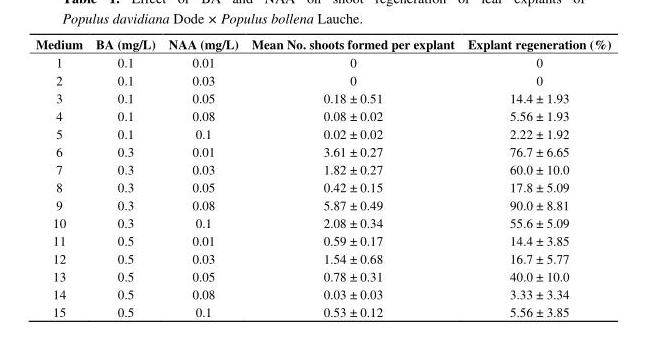table: (35, 34, 610, 319)
table column: (244, 34, 460, 319), (460, 34, 610, 319), (161, 34, 244, 319), (88, 34, 161, 319), (35, 34, 88, 319)
table column header: (35, 34, 610, 52)
table row: (35, 34, 610, 52), (35, 52, 610, 70), (35, 70, 610, 88), (35, 88, 610, 106), (35, 123, 610, 141), (35, 141, 610, 159), (35, 159, 610, 177), (35, 177, 610, 195), (35, 195, 610, 213), (35, 230, 610, 248), (35, 248, 610, 266), (35, 266, 610, 284), (35, 284, 610, 302), (35, 106, 610, 123), (35, 213, 610, 230), (35, 302, 610, 319)
